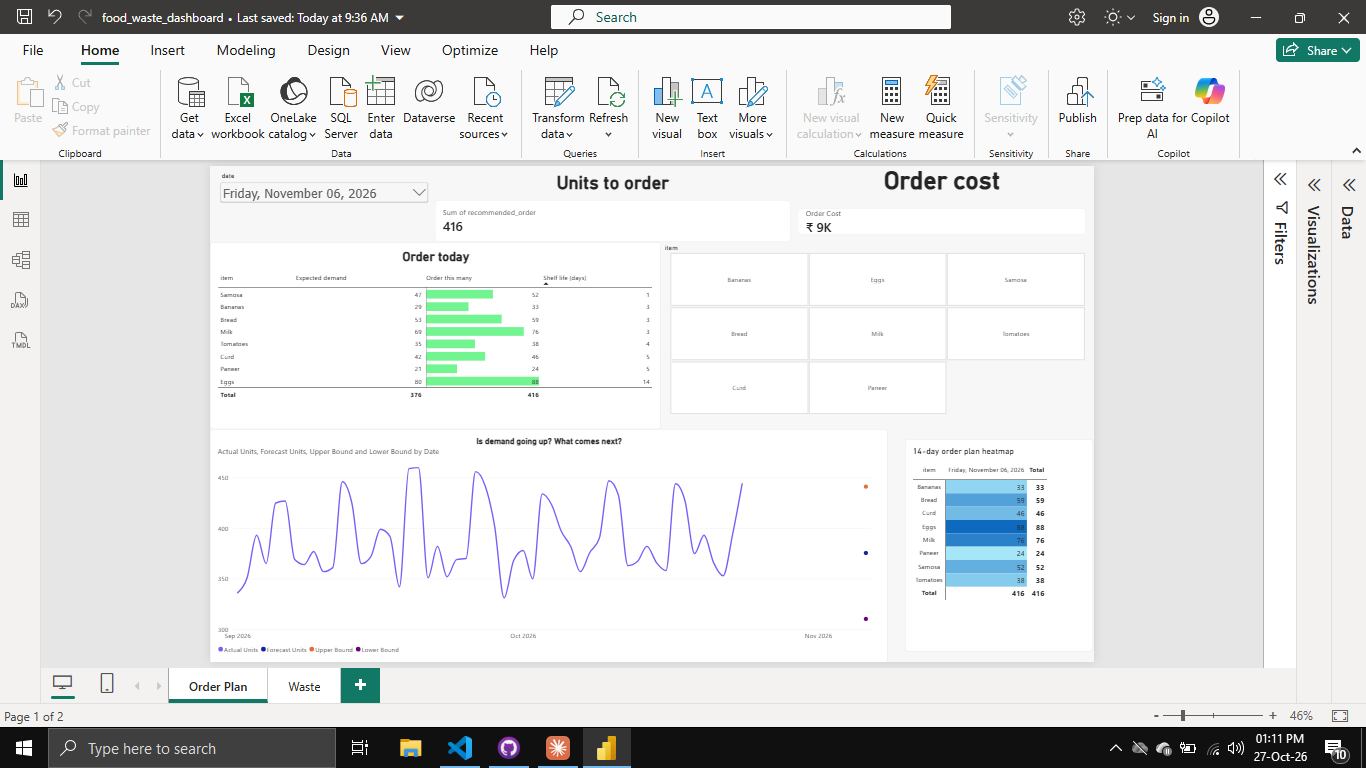

The page's visual inventory and layout, read from the dashboard file:
{"tool":"powerbi","page":{"name":"Order Plan","canvas":[1920,1080],"ordinal":0},"visuals":[{"type":"cardVisual","title":"Units to order","fields":{"Data":["Sum(forecast.recommended_order)"]},"box":[490.1,12.6,773.1,151.6],"z":1},{"type":"cardVisual","title":"Order cost","fields":{"Data":["history.Order Cost"]},"box":[1263.2,0,656.8,164.2],"z":2},{"type":"slicer","title":"Date","fields":{"Values":["forecast.date"]},"box":[17.7,12.6,462.3,265.3],"z":3},{"type":"tableEx","title":"Order today","fields":{"Values":["items.item","history.Forecast Units","history.Recommended Order","items.shelf_life_days"]},"box":[0,164.2,980.2,406.7],"z":4},{"type":"lineChart","title":"Is demand going up? What comes next?","fields":{"Category":["DateTable.Date"],"Y":["history.Actual Units","history.Forecast Units","history.Upper Bound","history.Lower Bound"]},"box":[0,570.9,1472.8,510.3],"z":5},{"type":"slicer","fields":{"Values":["items.item"]},"box":[980.2,169.3,939.8,371.4],"z":6},{"type":"pivotTable","title":"14-day order plan heatmap","fields":{"Columns":["forecast.date"],"Rows":["items.item"],"Values":["Sum(forecast.recommended_order)"]},"box":[1510.7,593.7,409.3,462.3],"z":7}]}

Visuals, with their boxes on the page's 1920x1080 design canvas (x1, y1, x2, y2). These are canvas units, not pixel positions in the 1366x768 screenshot, which may show the page scaled, cropped or inside an application window:
"Units to order" cardVisual: rect(490, 13, 1263, 164)
"Order cost" cardVisual: rect(1263, 0, 1920, 164)
"Date" slicer: rect(18, 13, 480, 278)
"Order today" tableEx: rect(0, 164, 980, 571)
"Is demand going up? What comes next?" lineChart: rect(0, 571, 1473, 1081)
slicer - items.item: rect(980, 169, 1920, 541)
"14-day order plan heatmap" pivotTable: rect(1511, 594, 1920, 1056)
